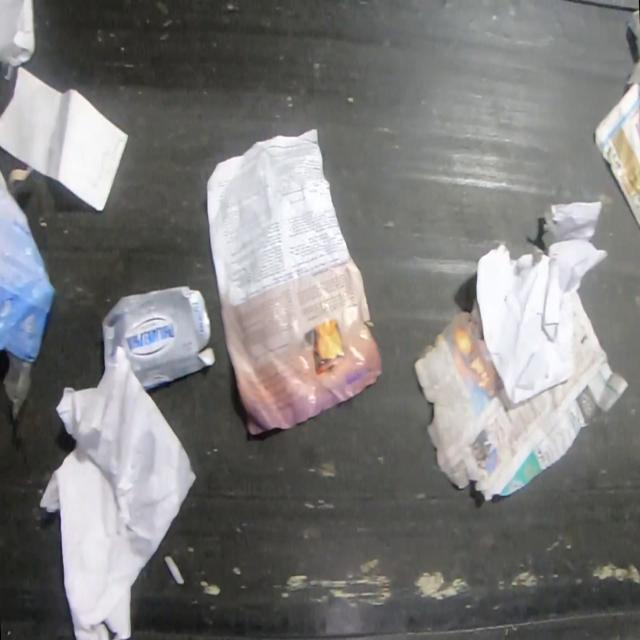cardboard: (101, 284, 217, 390)
soft_plastic: (0, 161, 58, 426)
